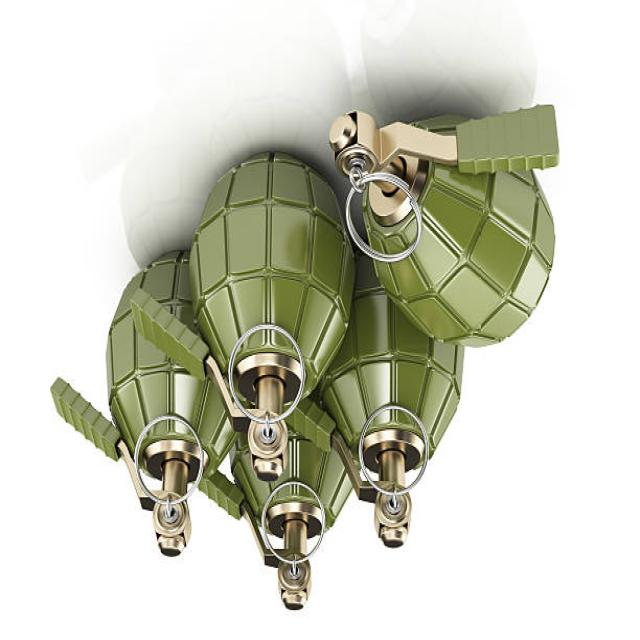grenade: (320, 93, 572, 357), (47, 250, 236, 563), (283, 282, 474, 554)
